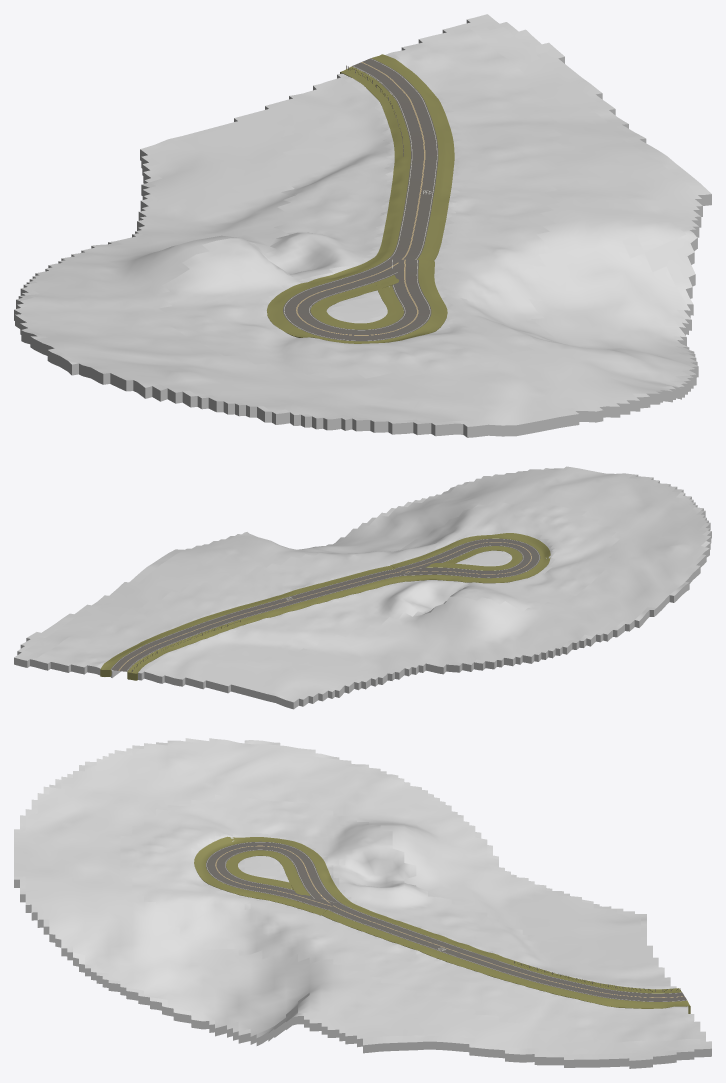
Rendered from conz_53.glb.
3 views of the same model, one above another, from view 1: azimuth 30°, elevation 25°; view 2: azimuth 150°, elevation 25°; view 3: azimuth 270°, elevation 25° (orthographic). The views are drawn at different scales.
Parts seen in each view (by area): view 1: terrain53, road53, verge53L, verge53R, paint_white53, paint_yellow53; view 2: terrain53, road53, verge53L, verge53R, paint_yellow53, paint_white53; view 3: terrain53, road53, verge53L, verge53R, paint_white53, paint_yellow53.
Boxes of the visible parts, left/top/right/bottom form: terrain53: left=14, top=14, right=711, bottom=437; road53: left=283, top=58, right=438, bottom=341; verge53L: left=267, top=66, right=447, bottom=343; verge53R: left=310, top=54, right=454, bottom=329; paint_white53: left=284, top=58, right=437, bottom=340; paint_yellow53: left=296, top=62, right=425, bottom=335; terrain53: left=14, top=466, right=711, bottom=709; road53: left=110, top=538, right=540, bottom=671; verge53L: left=127, top=533, right=550, bottom=680; verge53R: left=100, top=546, right=522, bottom=676; paint_yellow53: left=118, top=542, right=531, bottom=670; paint_white53: left=111, top=538, right=539, bottom=671; terrain53: left=14, top=738, right=711, bottom=1068; road53: left=206, top=841, right=686, bottom=1001; verge53L: left=194, top=836, right=681, bottom=993; verge53R: left=226, top=850, right=690, bottom=1013; paint_white53: left=206, top=842, right=686, bottom=1001; paint_yellow53: left=215, top=845, right=684, bottom=997.
Bounding box in the file's own units: 216 × 35.12 × 236.
